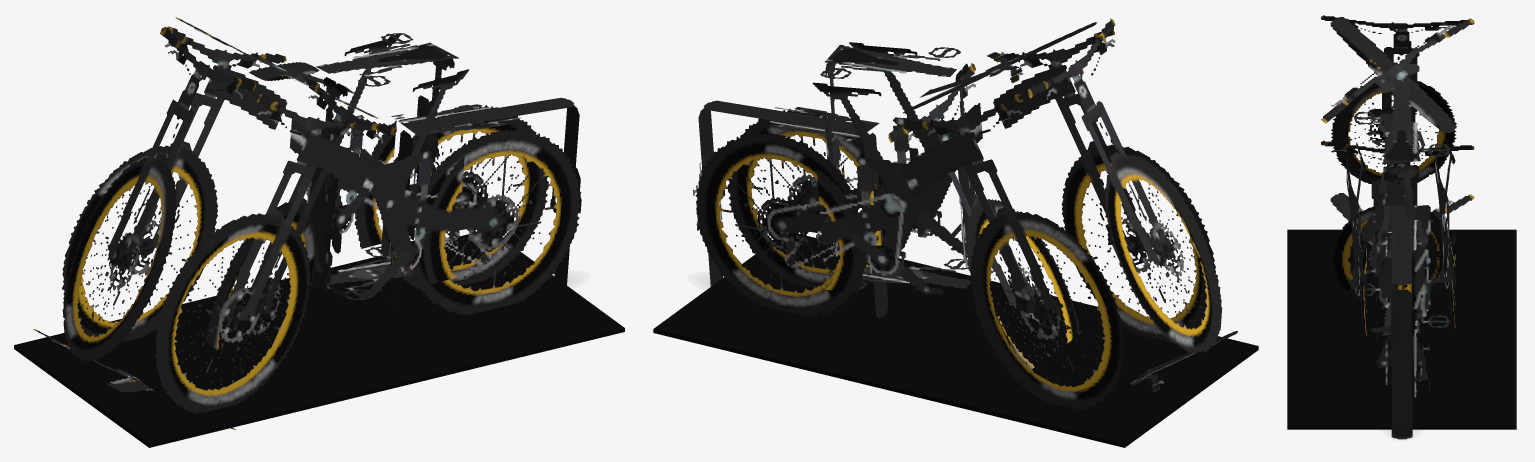
The model's file is bike-512.glb.
The picture shows the model from 3 angles, left to right: view 1: azimuth 30°, elevation 25°; view 2: azimuth 150°, elevation 25°; view 3: azimuth 270°, elevation 25°; orthographic projection. The views are drawn at different scales.
Visible parts, largest first — view 1: box_impostor (×2); view 2: box_impostor (×2); view 3: box_impostor (×2).
Part boxes in pixels (<box>): box_impostor (×2): <box>14,17,624,447</box>; box_impostor (×2): <box>653,18,1258,447</box>; box_impostor (×2): <box>1287,15,1516,439</box>.
Bounding box in the file's own units: 2.15 × 1.33 × 0.9329.
4 materials, 4 textured.
